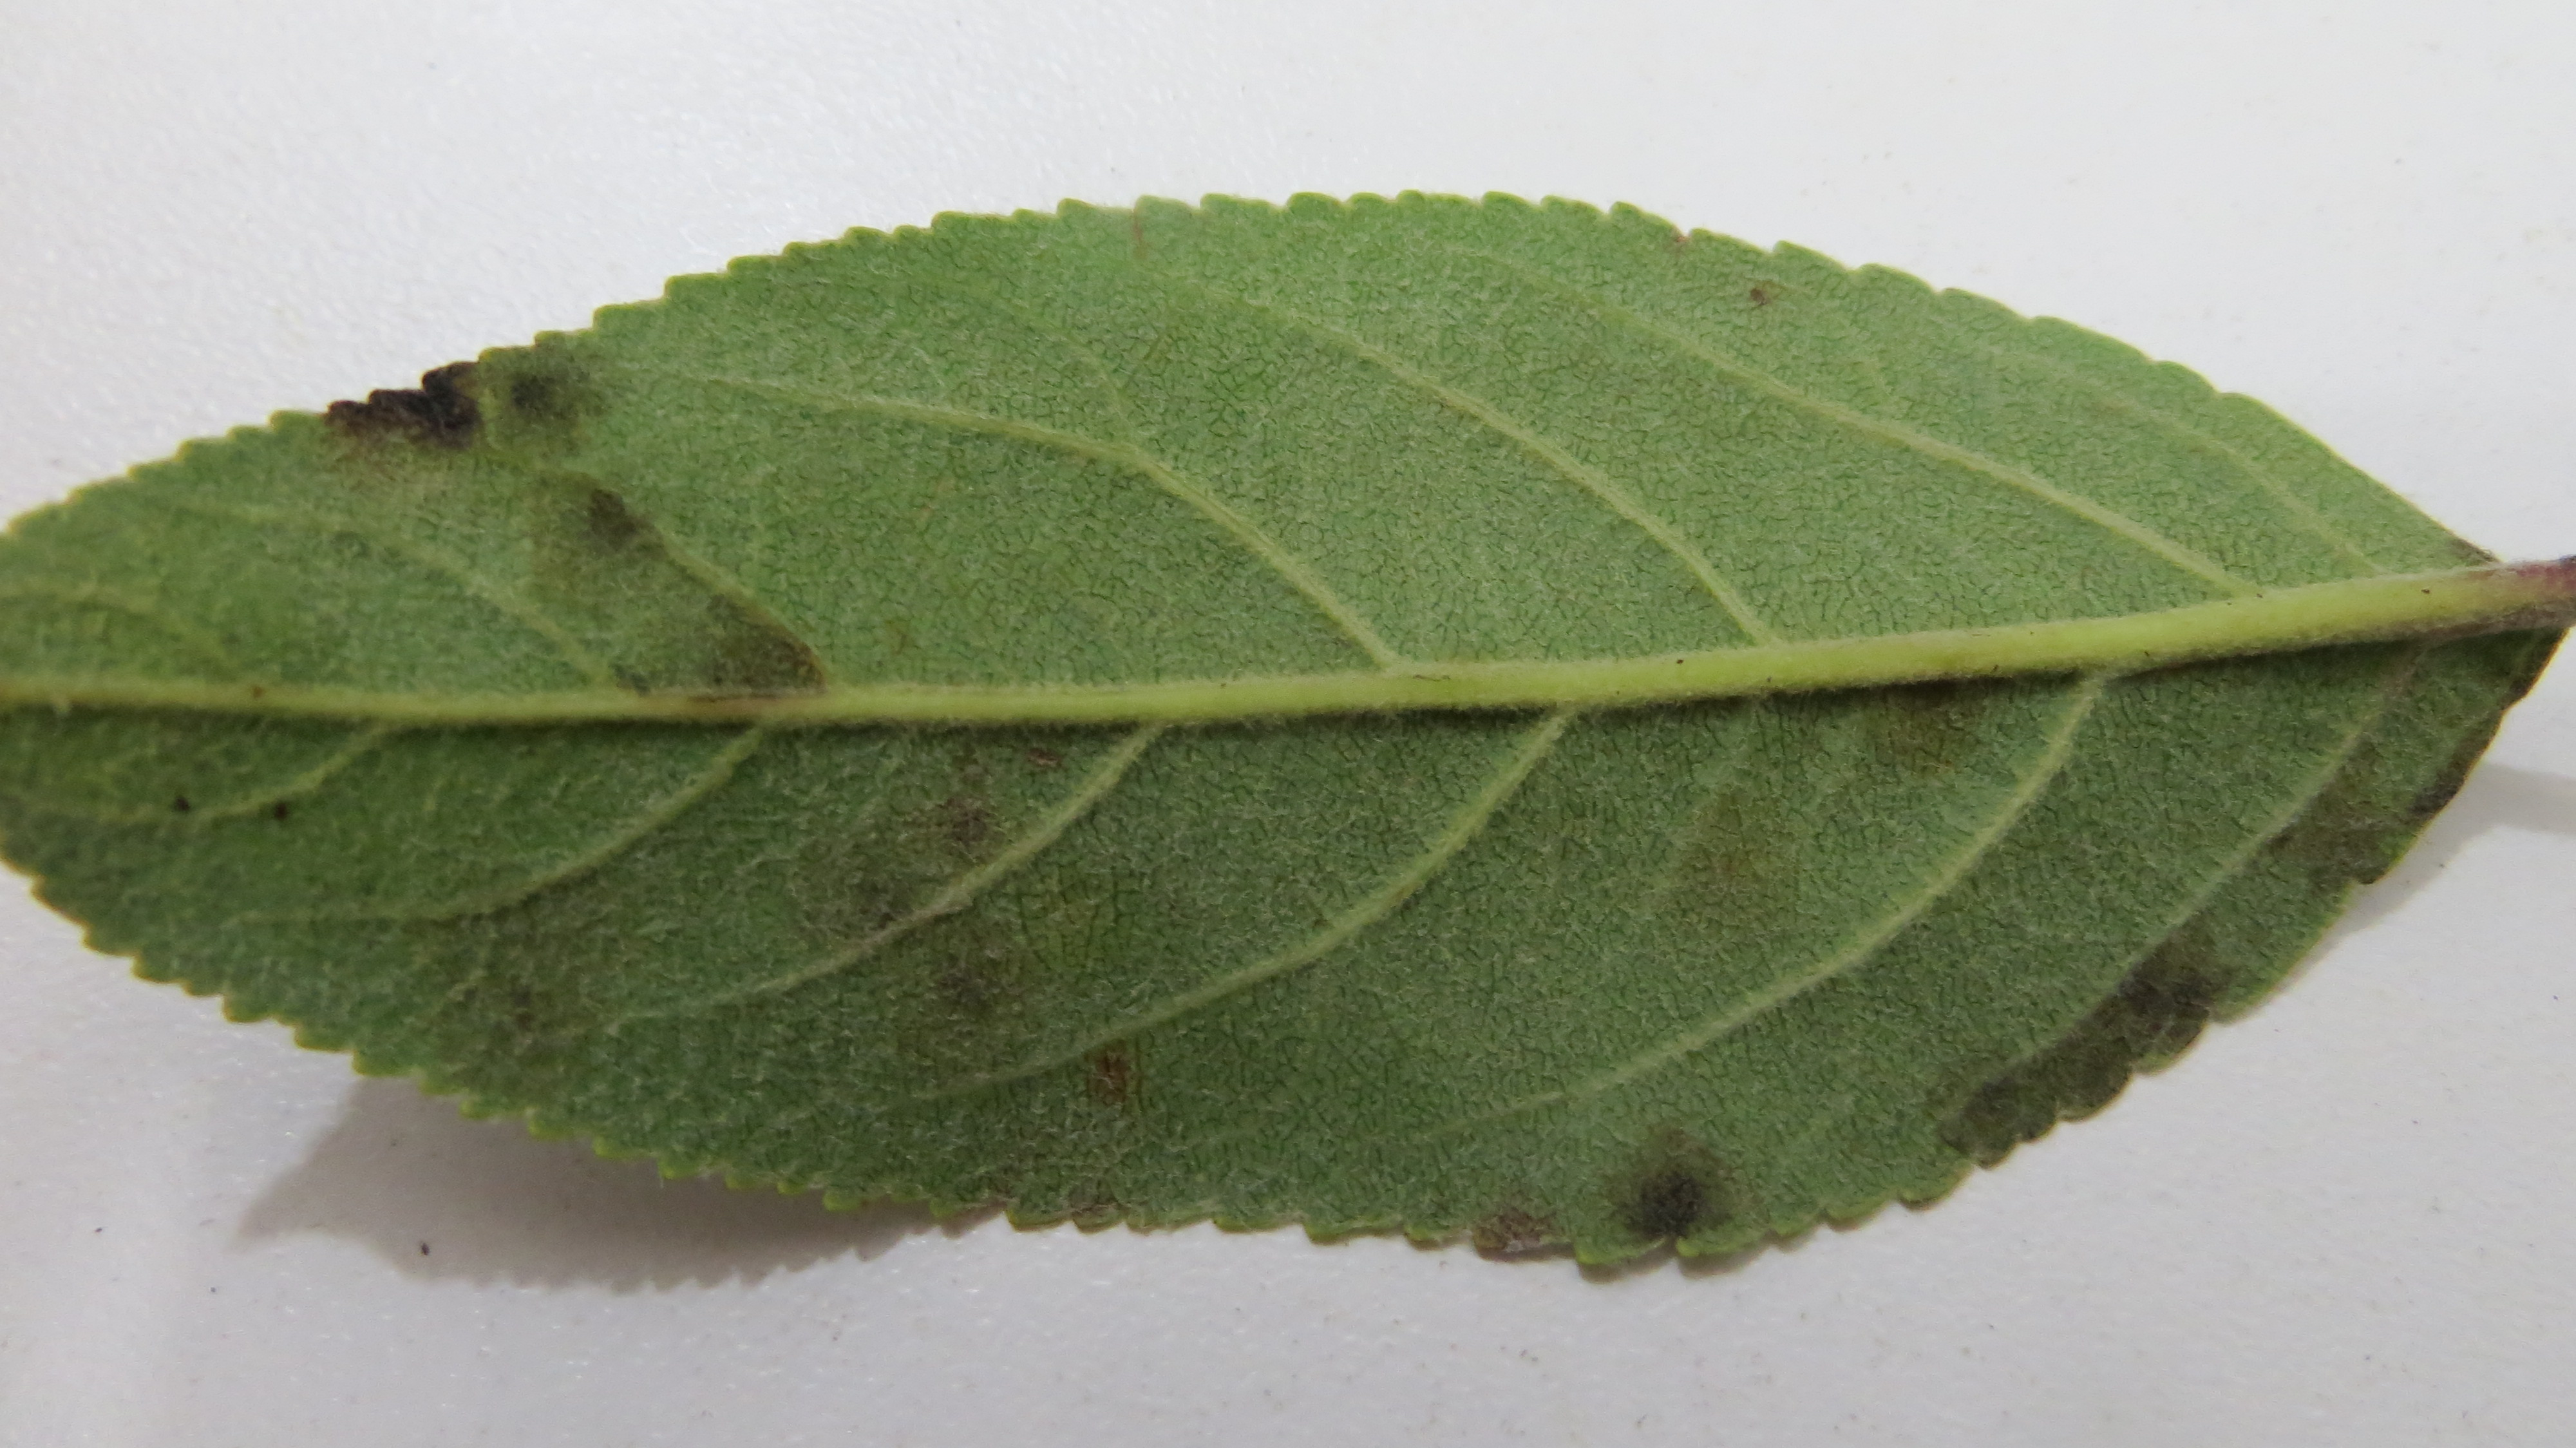sarna: (425, 850, 637, 1085), (768, 809, 938, 956), (2273, 747, 2417, 908), (1856, 659, 2015, 800), (304, 356, 487, 471), (2081, 933, 2219, 1080), (1914, 1043, 2086, 1159), (694, 588, 832, 728), (1603, 1119, 1736, 1260), (487, 322, 626, 455), (904, 905, 1039, 1034), (2413, 620, 2546, 740), (554, 471, 683, 589), (1456, 1172, 1568, 1267), (929, 784, 1024, 873), (600, 646, 685, 729), (2403, 733, 2482, 813), (1063, 1020, 1132, 1098)
